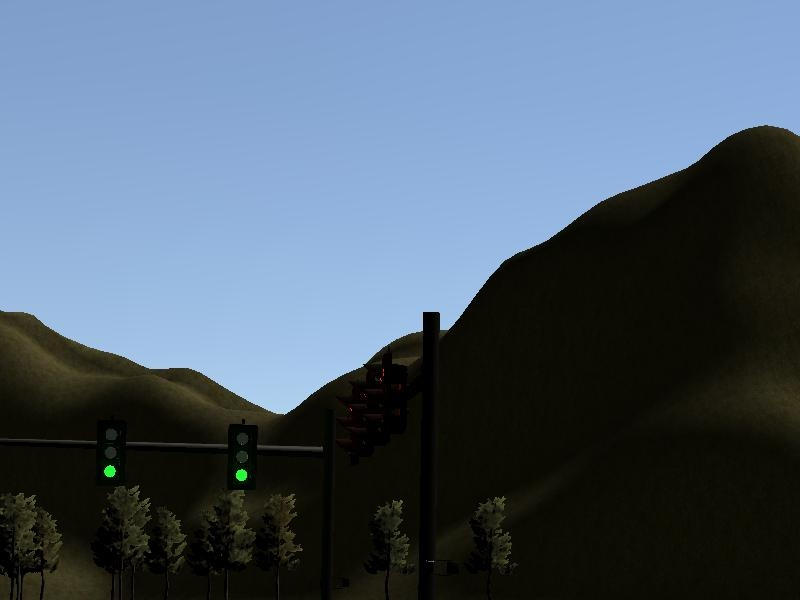GREEN: (220, 418, 258, 487), (94, 426, 123, 483)
